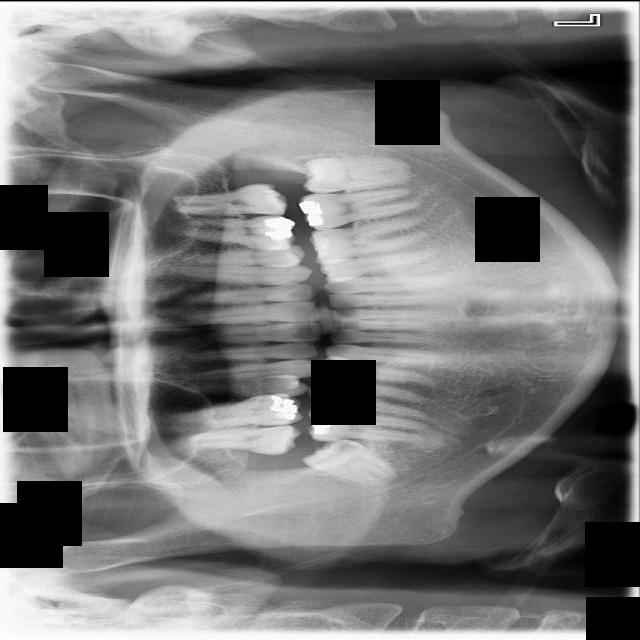52: (298, 184, 352, 235), (246, 388, 303, 430), (248, 215, 295, 249), (307, 406, 347, 442)
73: (568, 14, 578, 24)
BioHorizons Implant: (176, 182, 288, 215)
Biomet 3i Implant: (303, 156, 410, 192)
Blue Sky Bio Implant: (298, 187, 421, 230)
Caries: (185, 423, 304, 460)
Implant: (308, 407, 427, 440)
Keystone Dental Implant: (300, 428, 401, 490)
